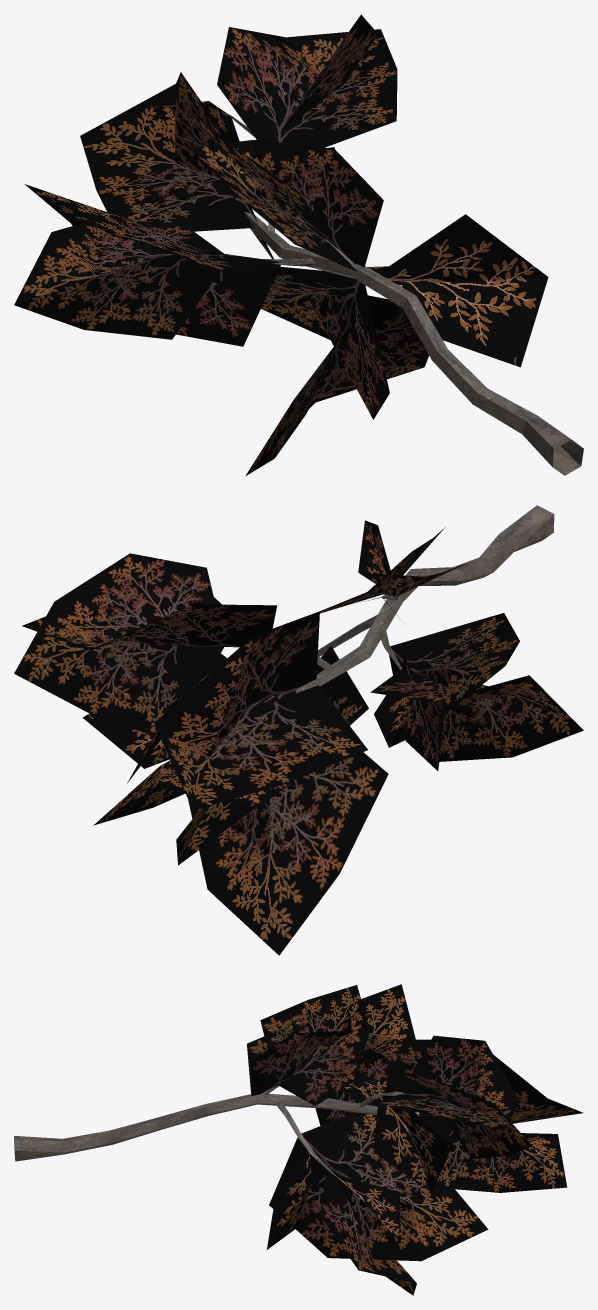
The model's file is House71.fbx.
The picture shows the model from 3 angles, top to bottom: view 1: azimuth 30°, elevation 25°; view 2: azimuth 150°, elevation 25°; view 3: azimuth 270°, elevation 25°; orthographic projection. The views are drawn at different scales.
Visible parts, largest first — view 1: AT_BGAgo_TrN14_11B.mo; view 2: AT_BGAgo_TrN14_11B.mo; view 3: AT_BGAgo_TrN14_11B.mo.
Boxes of the visible parts, bbox=[...] form: AT_BGAgo_TrN14_11B.mo: bbox=[14, 14, 583, 476]; AT_BGAgo_TrN14_11B.mo: bbox=[14, 505, 583, 955]; AT_BGAgo_TrN14_11B.mo: bbox=[14, 984, 582, 1295].
Bounding box in the file's own units: 1450 × 1174 × 2172.
